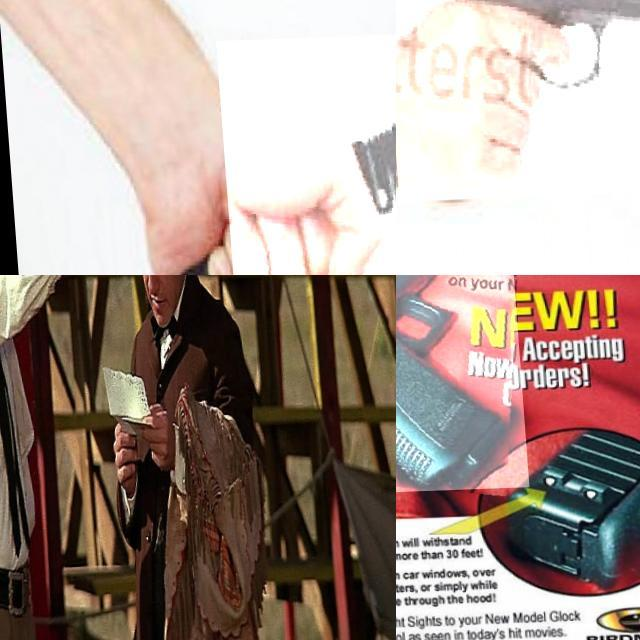-: (212, 33, 396, 275)
gun-knife-thesis - v11 Yolov5 augmented: (396, 0, 640, 203), (396, 275, 556, 499), (71, 275, 169, 353)
